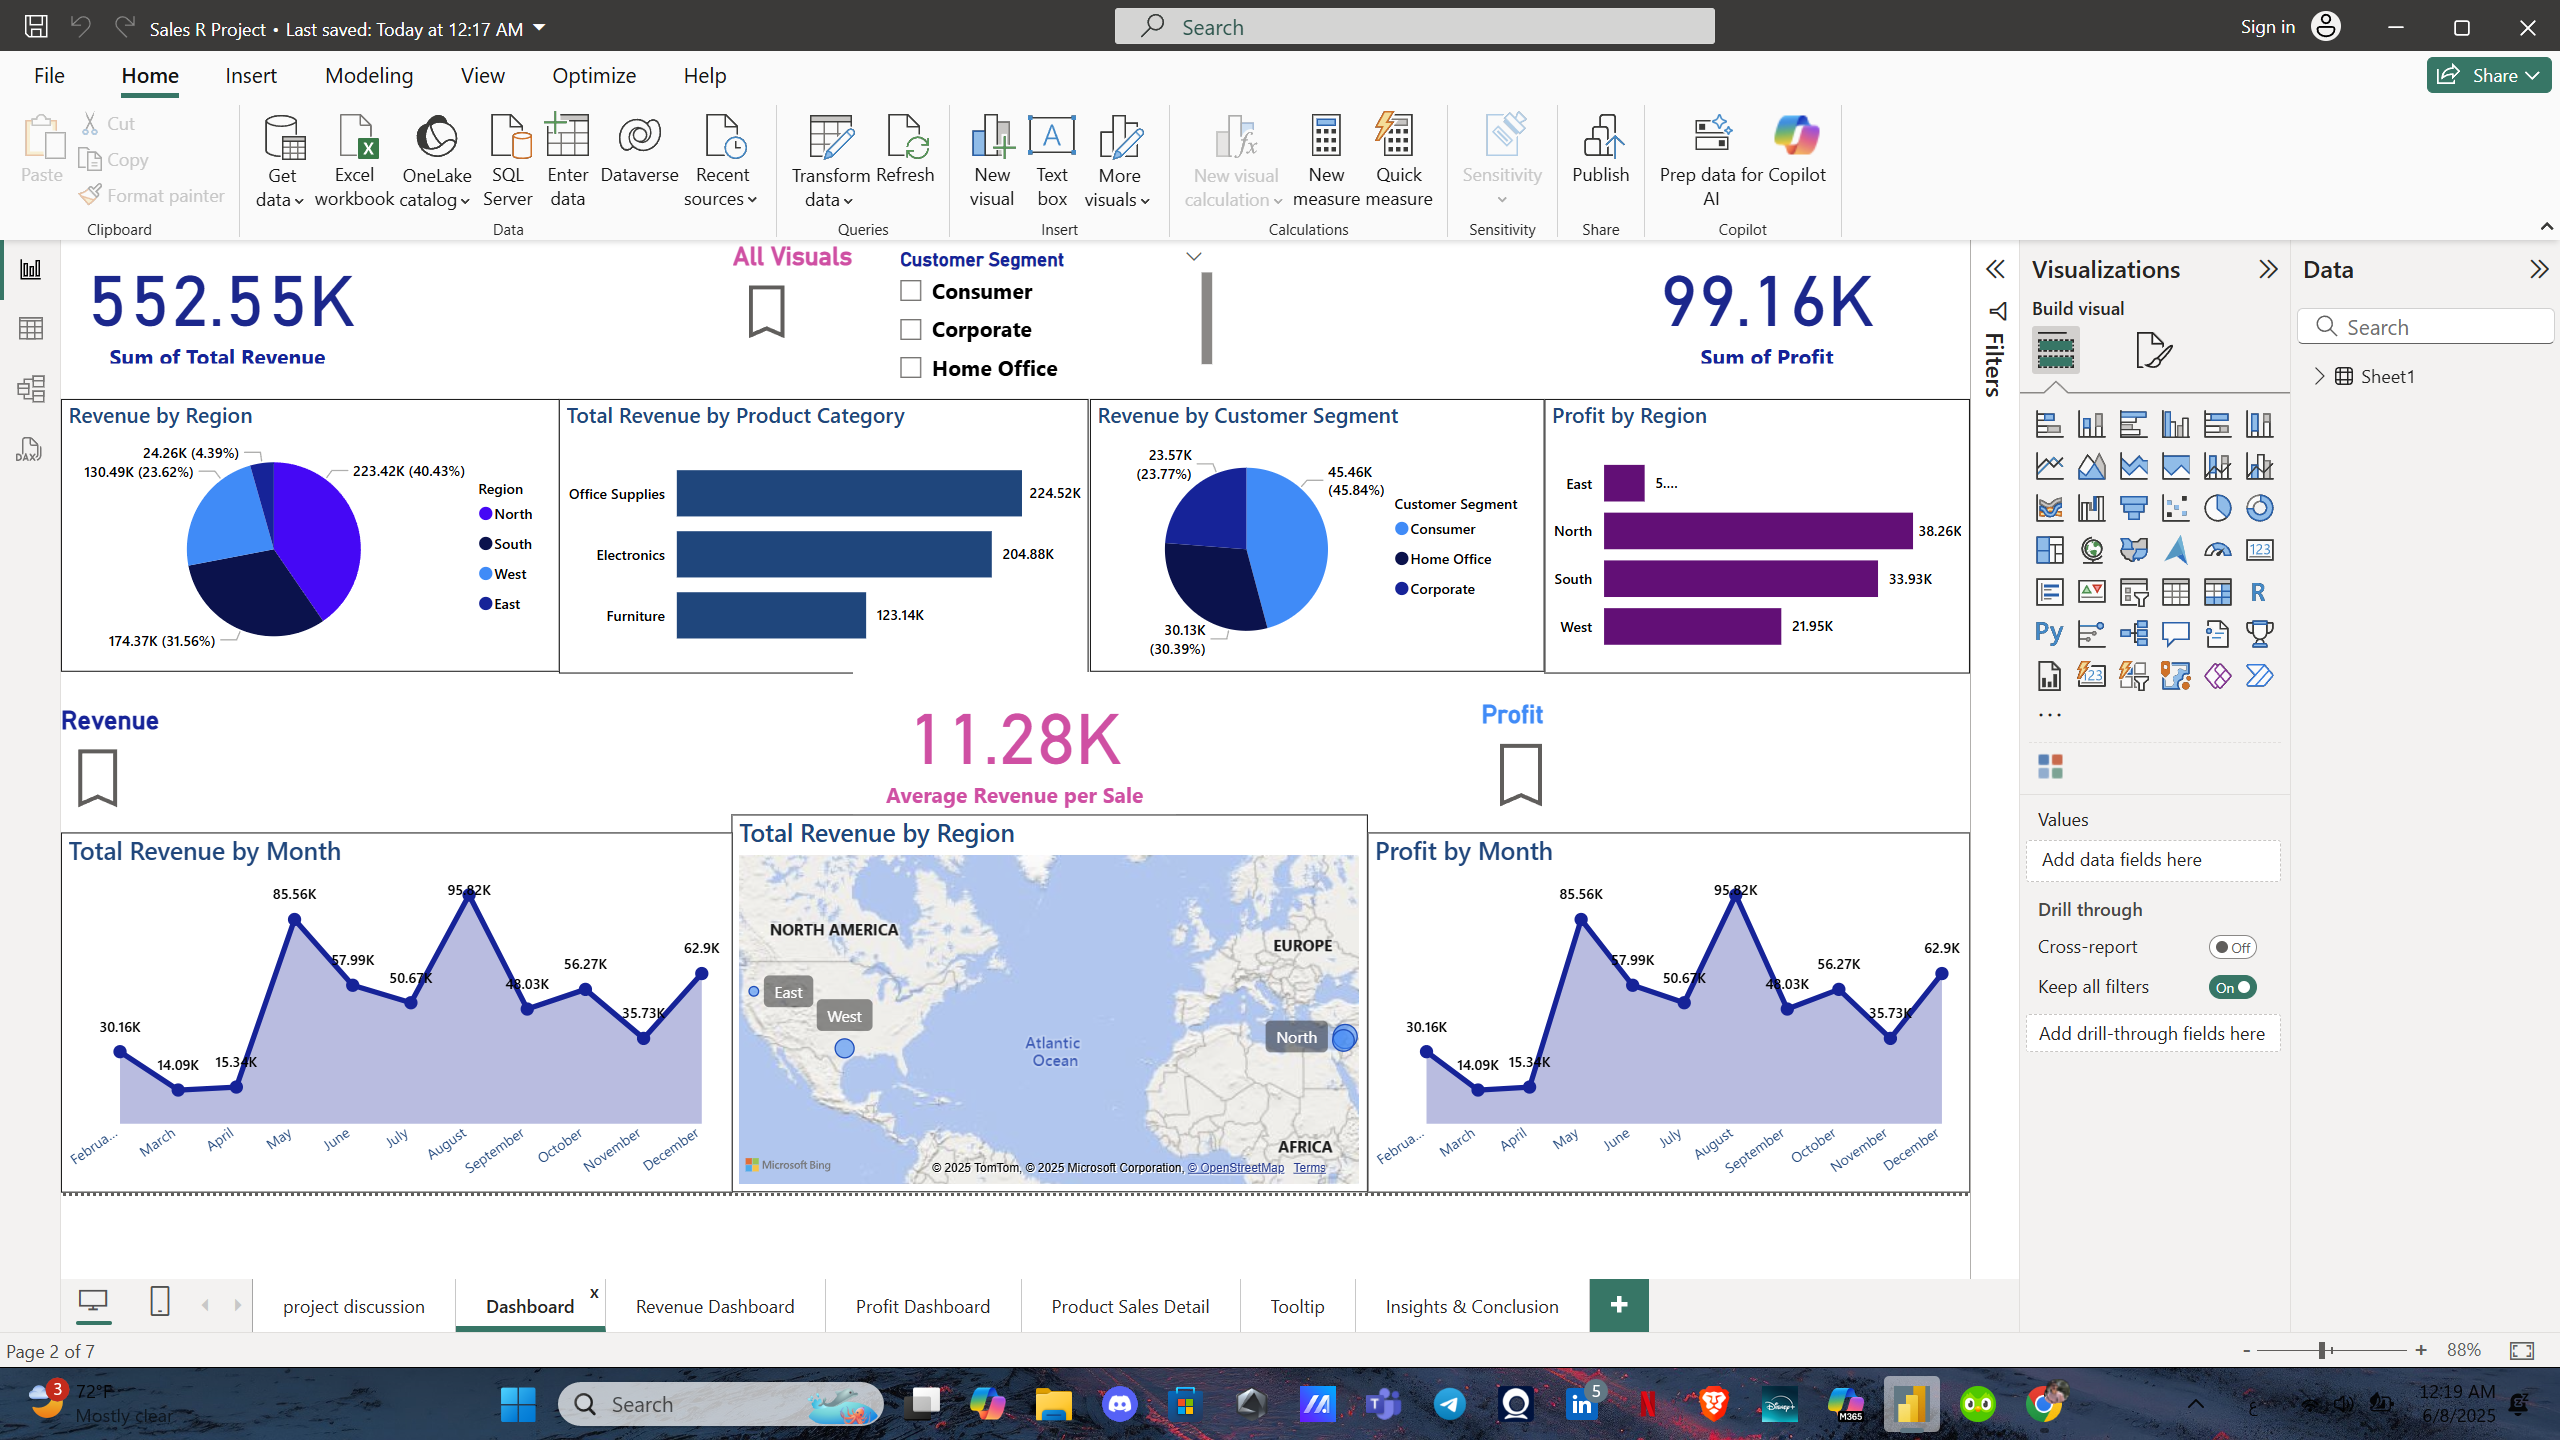

The page's visual inventory and layout, read from the dashboard file:
{"tool":"powerbi","page":{"name":"Dashboard ","canvas":[1442,720],"ordinal":1},"visuals":[{"type":"card","fields":{"Values":["Sum(Sheet1.Total Revenue )"]},"box":[0,0,240.2,98.6],"z":0},{"type":"card","fields":{"Values":["Sum(Sheet1.Profit)"]},"box":[1134.2,0,308.2,98.6],"z":1000},{"type":"slicer","fields":{"Values":["Sheet1.Customer Segment"]},"box":[620.9,1.1,253.8,109.9],"z":2000},{"type":"barChart","title":"Total Revenue by Product Category","fields":{"Y":["Sum(Sheet1.Total Revenue )"],"Category":["Sheet1.Product Category"]},"box":[376.6,120.3,400.3,207.3],"z":3000},{"type":"pieChart","title":"Revenue by Region","fields":{"Category":["Sheet1.Region"],"Y":["Sum(Sheet1.Total Revenue )"]},"box":[0,120.3,376.6,205.7],"z":4000},{"type":"pieChart","title":"Revenue by Customer Segment","fields":{"Category":["Sheet1.Customer Segment"],"Y":["Sum(Sheet1.Profit)"]},"box":[776.9,120.3,343.4,205.7],"z":5000},{"type":"map","title":"Total Revenue by Region","fields":{"Category":["Sheet1.Region"],"Size":["Sum(Sheet1.Total Revenue )"]},"box":[506.5,434,480.4,285.5],"z":6000},{"type":"areaChart","title":"Total Revenue by Month","fields":{"Y":["Sum(Sheet1.Total Revenue )"],"Category":["Sheet1.Order_Date.Variation.Date Hierarchy.Month"]},"box":[0,447.6,507.6,271.9],"z":7000},{"type":"areaChart","title":"Profit by Month","fields":{"Y":["Sum(Sheet1.Total Revenue )"],"Category":["Sheet1.Order_Date.Variation.Date Hierarchy.Month"]},"box":[986.9,447.6,455.5,271.9],"z":8000},{"type":"card","fields":{"Values":["Sheet1.Average Revenue per Sale"]},"box":[598.3,326.3,243.6,107.6],"z":9000},{"type":"actionButton","title":"Revenue","box":[0,351.2,87.2,82.7],"z":10000},{"type":"barChart","title":"Profit by Region","fields":{"Y":["Sum(Sheet1.Profit)"],"Category":["Sheet1.Region"]},"box":[1120.3,120.3,321.2,207.3],"z":11000},{"type":"actionButton","title":"Profit","box":[1072.8,346.5,96.5,87],"z":12000},{"type":"actionButton","title":"All Visuals","box":[507.6,1.1,112.2,78.2],"z":13000}]}

Visuals, with their boxes on the page's 1442x720 design canvas (x1, y1, x2, y2). These are canvas units, not pixel positions in the 2560x1440 screenshot, which may show the page scaled, cropped or inside an application window:
card - Sum(Sheet1.Total Revenue ): {"left": 0, "top": 0, "right": 240, "bottom": 99}
card - Sum(Sheet1.Profit): {"left": 1134, "top": 0, "right": 1442, "bottom": 99}
slicer - Sheet1.Customer Segment: {"left": 621, "top": 1, "right": 875, "bottom": 111}
"Total Revenue by Product Category" barChart: {"left": 377, "top": 120, "right": 777, "bottom": 328}
"Revenue by Region" pieChart: {"left": 0, "top": 120, "right": 377, "bottom": 326}
"Revenue by Customer Segment" pieChart: {"left": 777, "top": 120, "right": 1120, "bottom": 326}
"Total Revenue by Region" map: {"left": 506, "top": 434, "right": 987, "bottom": 720}
"Total Revenue by Month" areaChart: {"left": 0, "top": 448, "right": 508, "bottom": 720}
"Profit by Month" areaChart: {"left": 987, "top": 448, "right": 1442, "bottom": 720}
card - Sheet1.Average Revenue per Sale: {"left": 598, "top": 326, "right": 842, "bottom": 434}
"Revenue" actionButton: {"left": 0, "top": 351, "right": 87, "bottom": 434}
"Profit by Region" barChart: {"left": 1120, "top": 120, "right": 1442, "bottom": 328}
"Profit" actionButton: {"left": 1073, "top": 346, "right": 1169, "bottom": 434}
"All Visuals" actionButton: {"left": 508, "top": 1, "right": 620, "bottom": 79}
